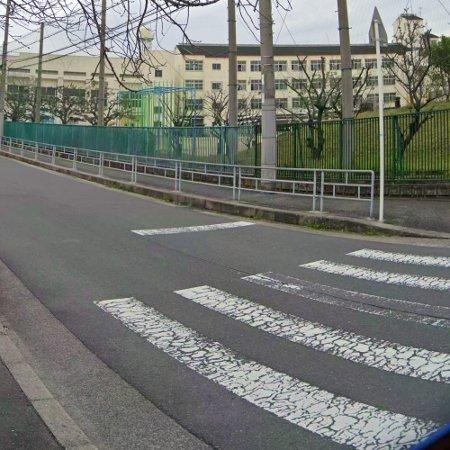crosswalks: (93, 245, 450, 450)
